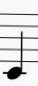LC: (1, 10, 28, 81)
